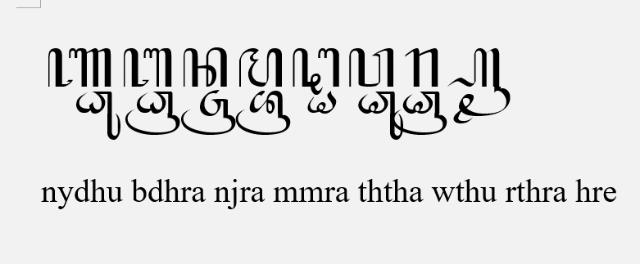Ny1: (46, 48, 114, 88)
_br: (236, 90, 290, 136)
_dhr: (125, 90, 181, 136)
_dhu: (76, 91, 120, 141)
_hre: (446, 47, 512, 124)
_jr: (180, 89, 236, 135)
_th: (307, 90, 337, 114)
_thr: (392, 92, 448, 136)
_thu: (357, 90, 403, 140)
b: (122, 48, 172, 88)
m: (238, 46, 282, 88)
n: (182, 48, 228, 88)
r: (403, 48, 439, 88)
th: (290, 47, 340, 95)
w: (348, 48, 394, 88)
